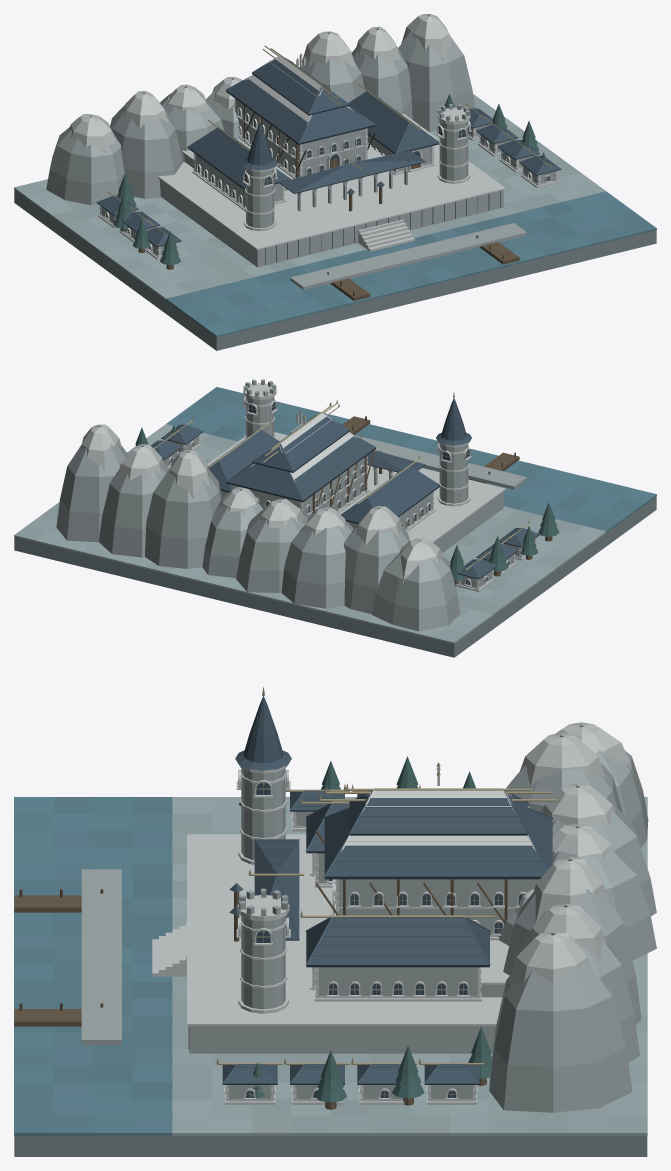
File: fjord.glb
The picture shows the model from 3 angles, top to bottom: view 1: azimuth 30°, elevation 25°; view 2: azimuth 150°, elevation 25°; view 3: azimuth 270°, elevation 25°; orthographic projection. The views are drawn at different scales.
Parts seen in each view (by area): view 1: site, cliff-platform, longhall-roof, watchtowers, watchtowers-roof, longhall, landscape, landscape-roof, gallery-roof, gallery; view 2: site, longhall-roof, cliff-platform, watchtowers-roof, watchtowers, landscape, longhall, landscape-roof, gallery-roof; view 3: site, cliff-platform, longhall-roof, watchtowers, watchtowers-roof, longhall, landscape, landscape-roof, gallery-roof.
Part boxes in pixels (x1,y1,x2,y2): site: (14, 14, 656, 350); cliff-platform: (158, 114, 526, 300); longhall-roof: (226, 45, 376, 144); watchtowers: (192, 107, 471, 230); watchtowers-roof: (187, 83, 470, 189); longhall: (234, 98, 374, 178); landscape: (98, 93, 559, 269); landscape-roof: (96, 103, 561, 247); gallery-roof: (280, 150, 425, 193); gallery: (297, 166, 407, 211); site: (14, 387, 656, 657); longhall-roof: (225, 399, 376, 502); cliff-platform: (207, 416, 526, 552); watchtowers-roof: (208, 379, 471, 523); watchtowers: (221, 383, 471, 531); landscape: (135, 425, 559, 591); longhall: (234, 450, 374, 518); landscape-roof: (151, 416, 539, 579); gallery-roof: (360, 434, 425, 472); site: (14, 722, 656, 1156); cliff-platform: (14, 834, 509, 1053); longhall-roof: (318, 783, 557, 879); watchtowers: (236, 765, 481, 1013); watchtowers-roof: (235, 687, 494, 967); longhall: (315, 830, 539, 940); landscape: (224, 756, 492, 1109); landscape-roof: (216, 784, 484, 1084); gallery-roof: (248, 839, 303, 940).
Bounding box in the file's own units: 59.01 × 18.75 × 47.74.
